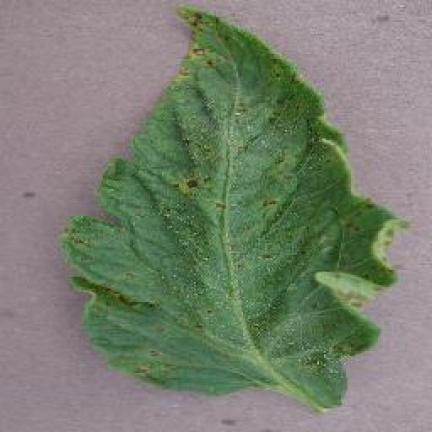disease: (62, 7, 400, 408)
leaf: (189, 12, 201, 25)
